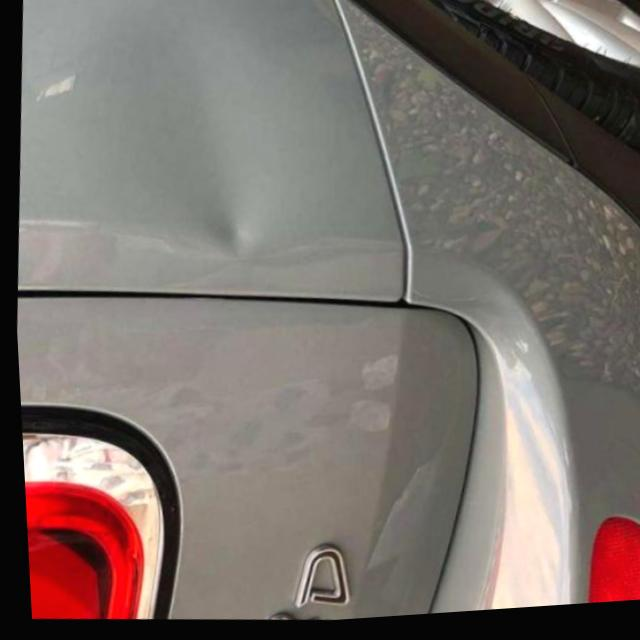Dent: (183, 188, 270, 267)
